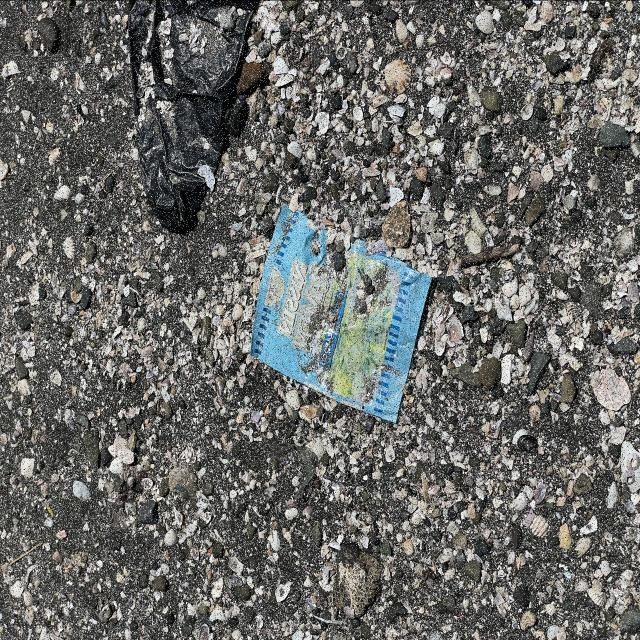plastic_waste: (251, 201, 433, 422)
